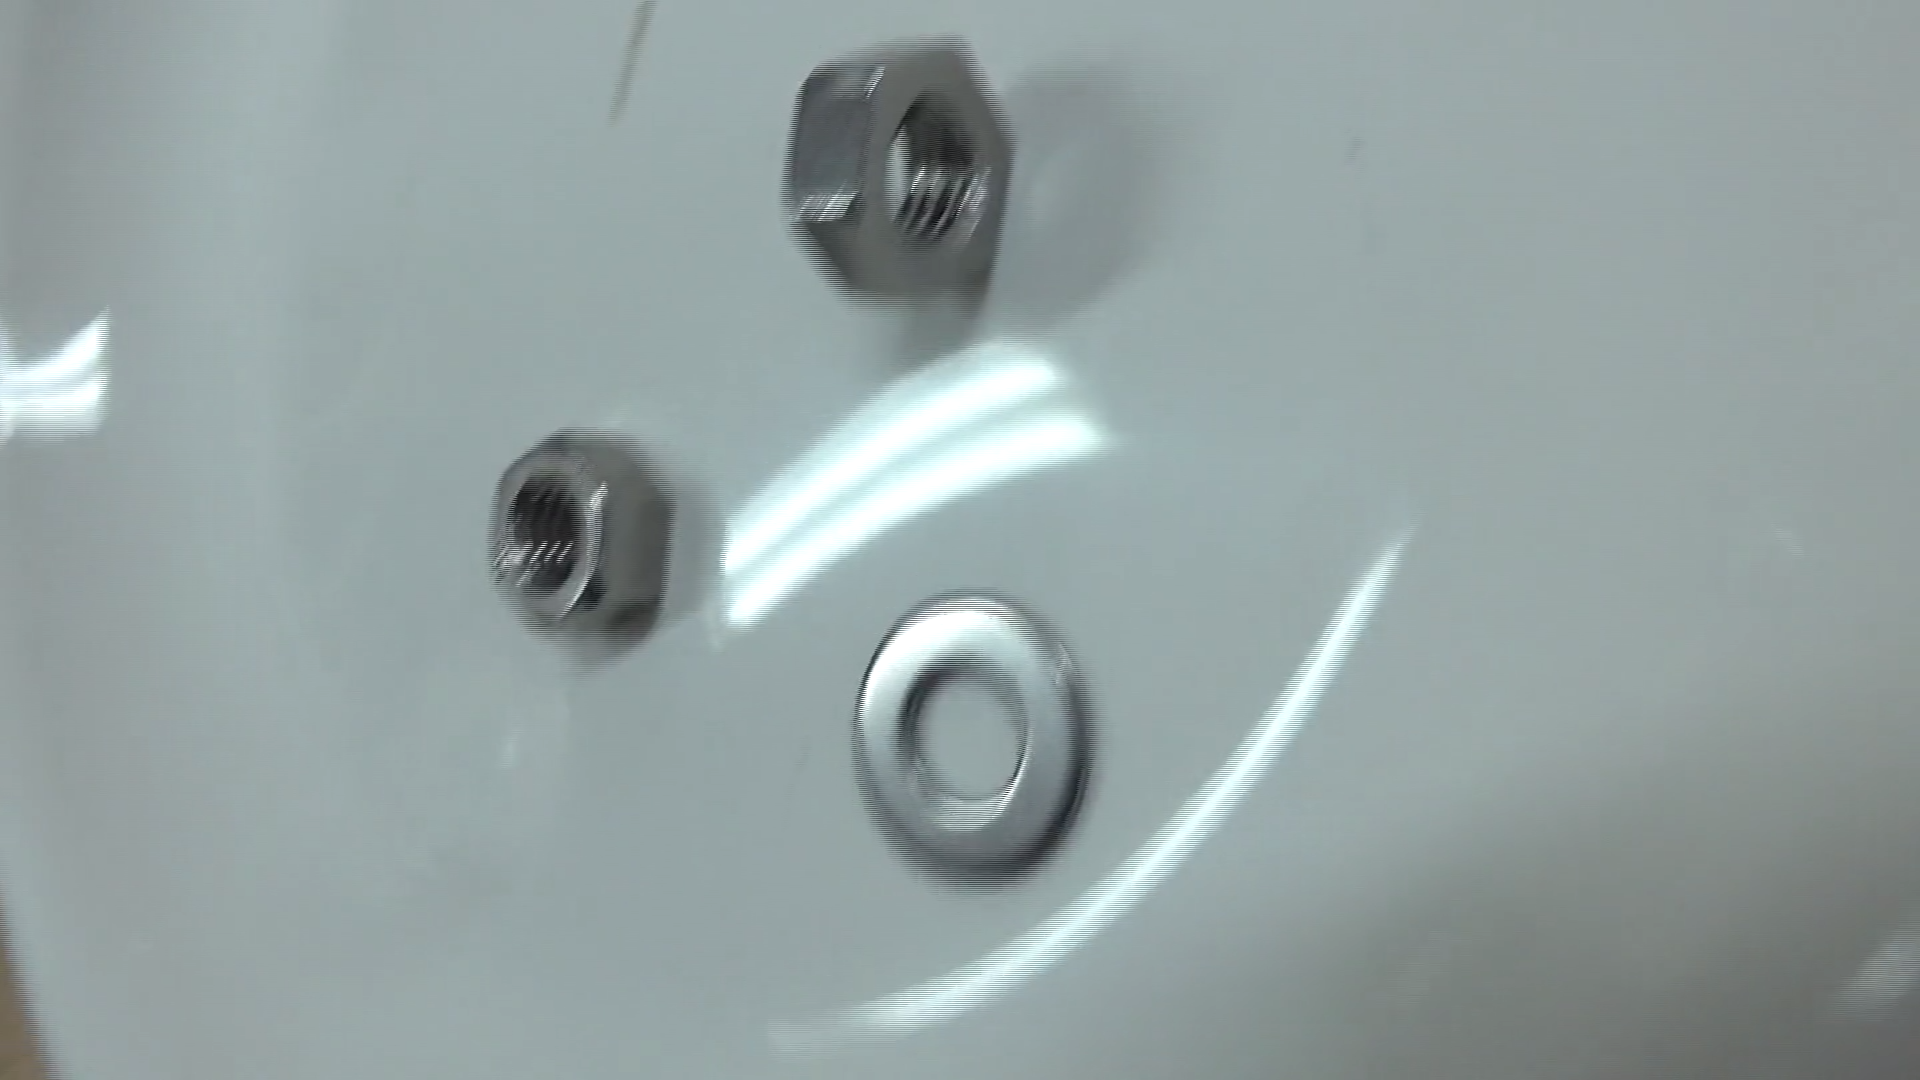nut: (775, 37, 1036, 322), (454, 397, 698, 665)
washer: (808, 563, 1112, 903)
